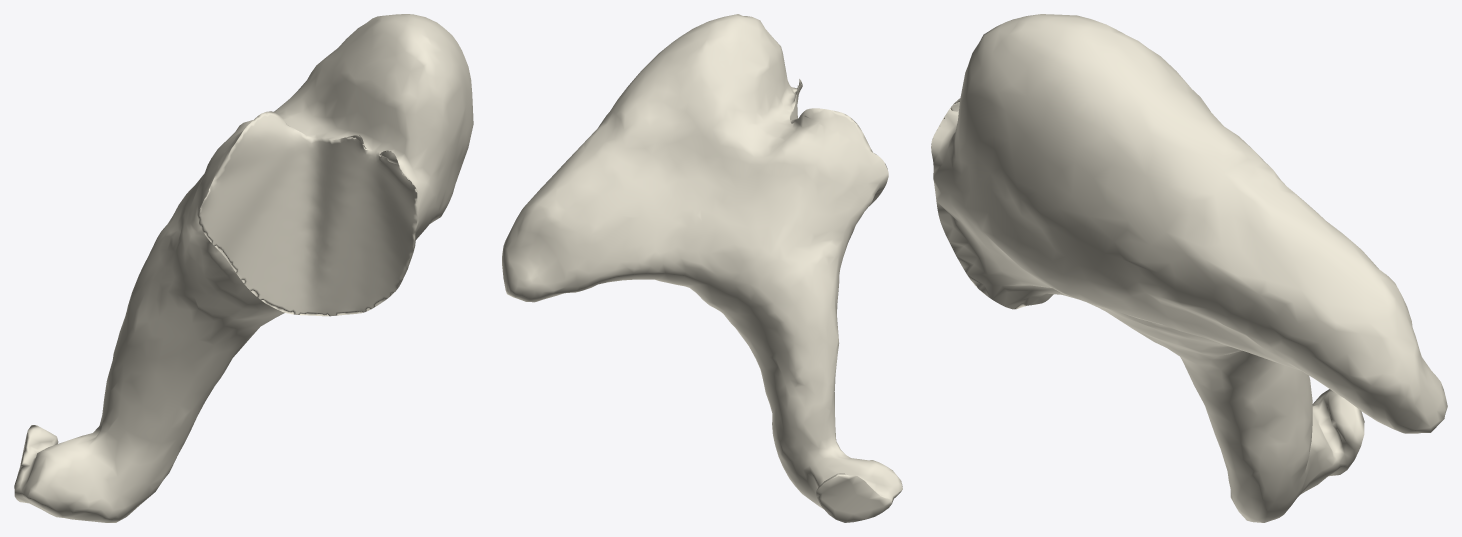
Rendered from fma74051_mm1047.glb.
3 views of the same model, side by side, from view 1: azimuth 30°, elevation 25°; view 2: azimuth 150°, elevation 25°; view 3: azimuth 270°, elevation 25° (orthographic). The views are drawn at different scales.
Parts seen in each view (by area): view 1: FMA74051_MM1047; view 2: FMA74051_MM1047; view 3: FMA74051_MM1047.
Boxes of the visible parts, <box> form: FMA74051_MM1047: <box>14,14,473,522</box>; FMA74051_MM1047: <box>502,14,902,522</box>; FMA74051_MM1047: <box>931,14,1447,522</box>.
Size of the model in its own units: 0.00593 by 0.00639 by 0.00472.
